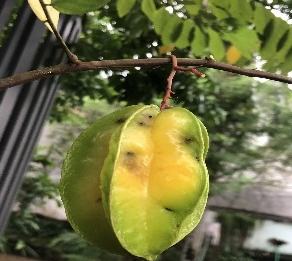Khe: (57, 104, 211, 261)
